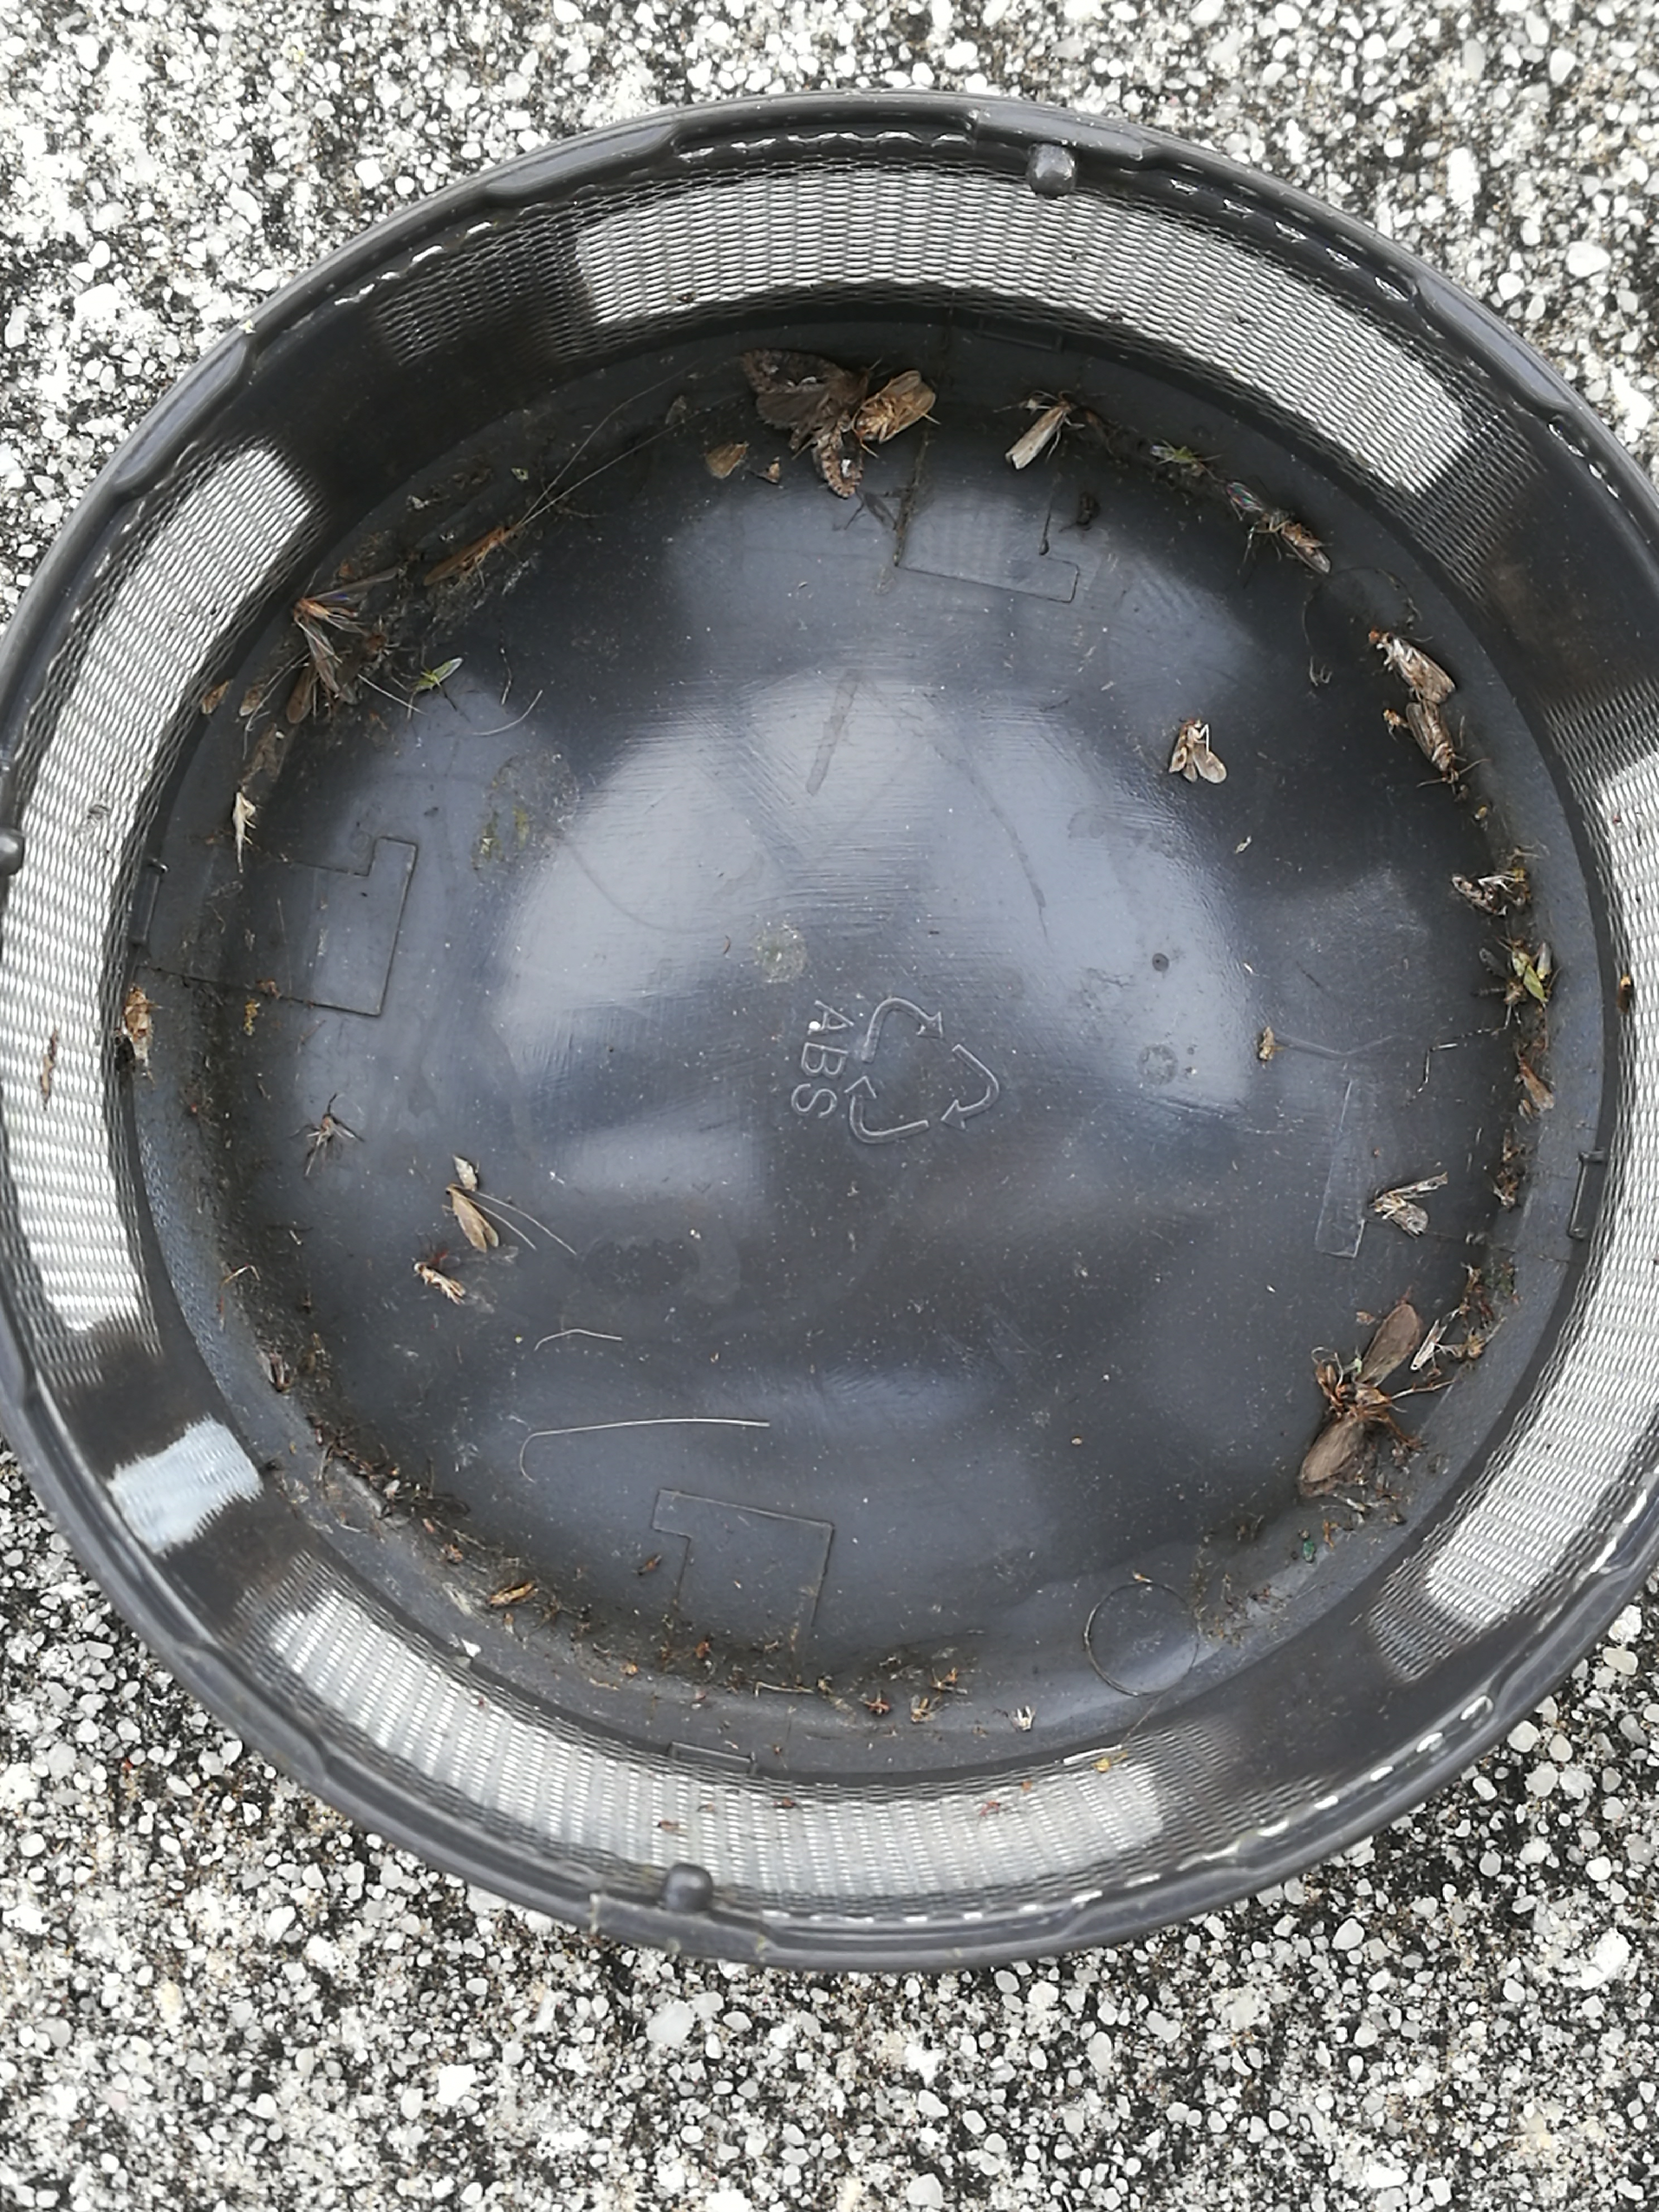mosquito: (425, 524, 505, 583), (1006, 401, 1073, 469), (446, 1186, 498, 1252), (336, 631, 389, 685), (1283, 519, 1330, 571), (413, 1263, 464, 1306), (288, 658, 314, 723), (488, 1581, 538, 1606), (457, 1158, 477, 1191)
moth: (1302, 1305, 1419, 1498), (293, 566, 406, 704), (739, 348, 852, 425), (856, 371, 934, 439), (1382, 632, 1457, 702), (1371, 1176, 1448, 1235), (1405, 702, 1455, 775), (1171, 716, 1227, 782)
